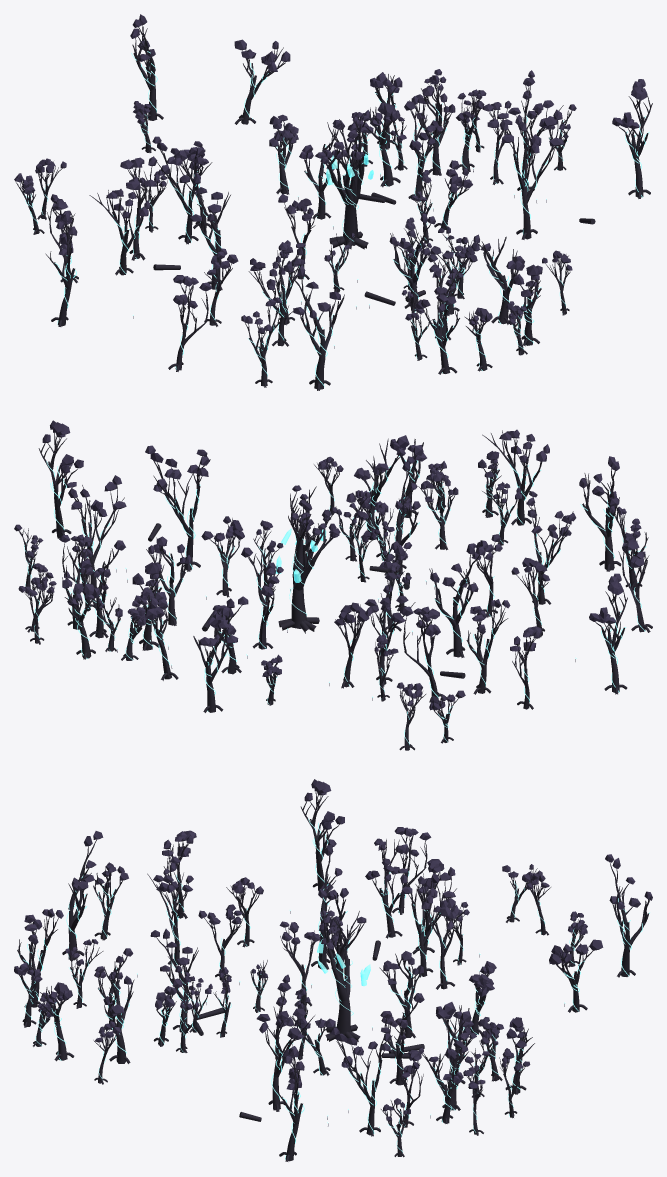
Rendered from Lote_Vegetacao.glb.
3 views of the same model, one above another, from view 1: azimuth 30°, elevation 25°; view 2: azimuth 150°, elevation 25°; view 3: azimuth 270°, elevation 25° (orthographic). The views are drawn at different scales.
Parts seen in each view (by area): view 1: V0157, V0064, V0073, V0124, V0154, V0034, V0001, V0010, V0109, V0028, V0052, V0066 (+22 smaller); view 2: V0157, V0064, V0109, V0073, V0001, V0154, V0052, V0124, V0010, V0100, V0066, V0112 (+28 smaller); view 3: V0157, V0001, V0100, V0064, V0034, V0073, V0052, V0028, V0124, V0066, V0136, V0076 (+16 smaller).
Part boxes in pixels (x1,y1,x2,y2): V0157: (323, 119, 368, 249); V0064: (502, 117, 564, 239); V0073: (289, 272, 344, 390); V0124: (618, 95, 652, 198); V0154: (423, 265, 459, 374); V0034: (477, 236, 518, 324); V0001: (132, 25, 163, 121); V0010: (89, 190, 143, 275); V0109: (185, 183, 230, 290); V0028: (157, 150, 205, 244); V0052: (45, 222, 74, 326); V0066: (497, 109, 564, 153); V0157: (278, 486, 333, 633); V0064: (153, 456, 210, 571); V0109: (429, 554, 479, 657); V0073: (582, 469, 621, 571); V0001: (193, 605, 242, 712); V0154: (482, 430, 542, 525); V0052: (595, 591, 627, 694); V0124: (38, 432, 78, 538); V0010: (466, 603, 508, 694); V0100: (72, 485, 124, 593); V0066: (145, 445, 209, 491); V0112: (146, 537, 187, 625); V0157: (322, 904, 365, 1041); V0001: (609, 862, 651, 977); V0100: (336, 1033, 392, 1136); V0064: (264, 984, 314, 1111); V0034: (104, 961, 134, 1063); V0073: (62, 840, 96, 960); V0052: (300, 791, 339, 892); V0028: (402, 872, 456, 977); V0124: (273, 1057, 302, 1161); V0066: (256, 974, 306, 1039); V0136: (147, 868, 188, 966); V0076: (379, 953, 420, 1038).
Bounding box in the file's own units: 204 × 50.27 × 193.
